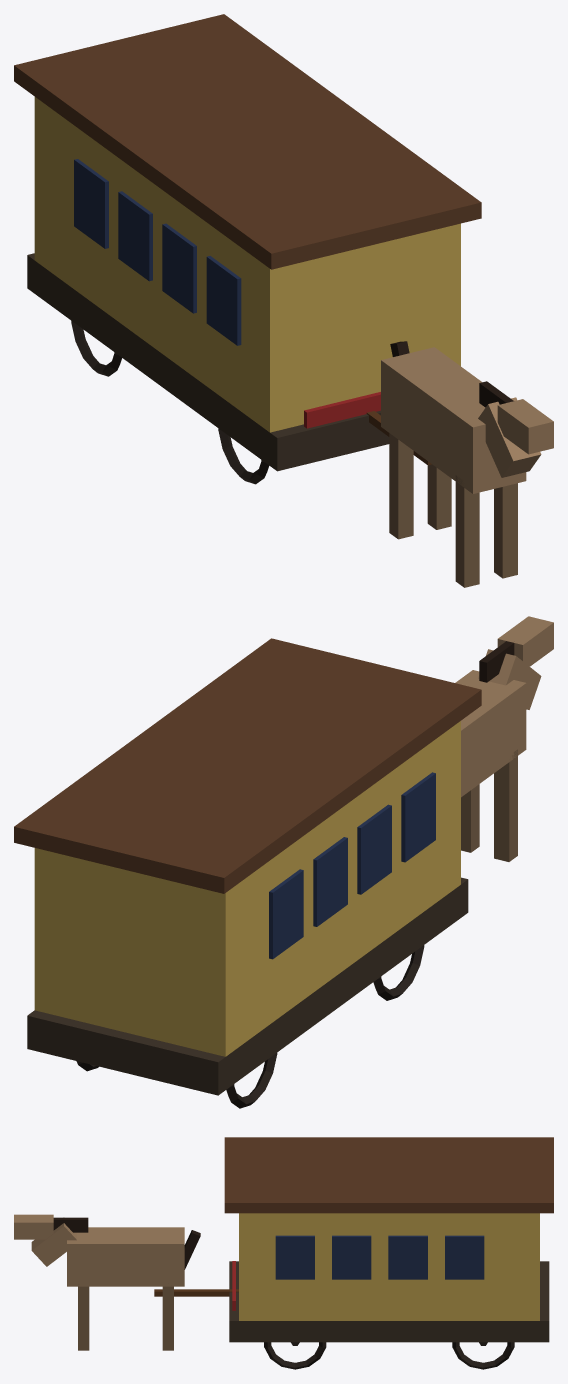
Rendered from tramwaj.glb.
The picture shows the model from 3 angles, top to bottom: view 1: azimuth 30°, elevation 25°; view 2: azimuth 150°, elevation 25°; view 3: azimuth 270°, elevation 25°; orthographic projection. The views are drawn at different scales.
Visible parts, largest first — view 1: tramwaj; view 2: tramwaj; view 3: tramwaj.
Boxes of the visible parts, box(x1,y1,x2,y2) form: tramwaj: box(14, 14, 553, 587); tramwaj: box(14, 616, 553, 1108); tramwaj: box(14, 1137, 553, 1369).
Size of the model in its own units: 1.65 by 2.06 by 5.74.
